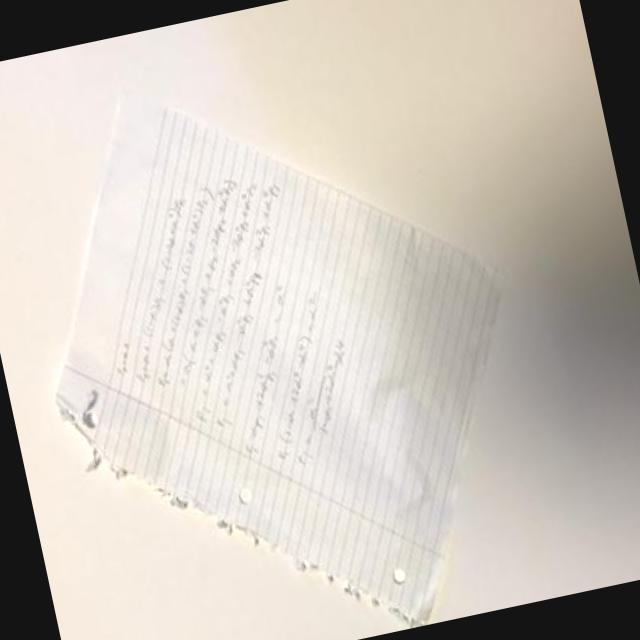giay: (51, 93, 505, 629)
